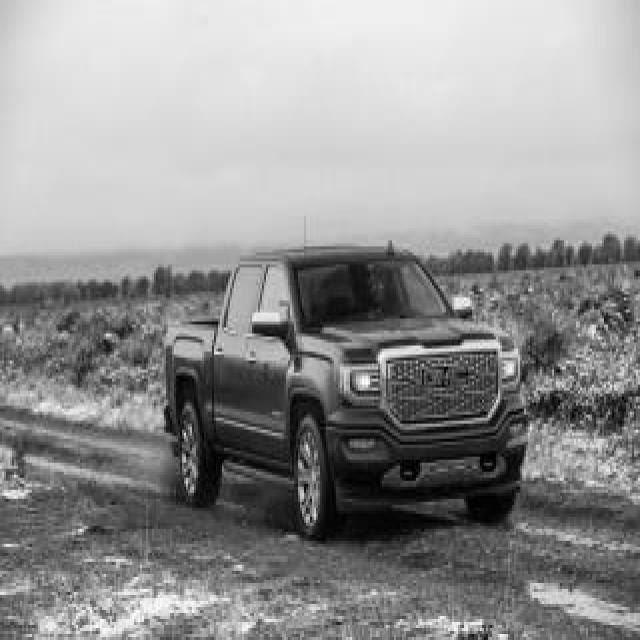Car: (165, 244, 528, 538)
